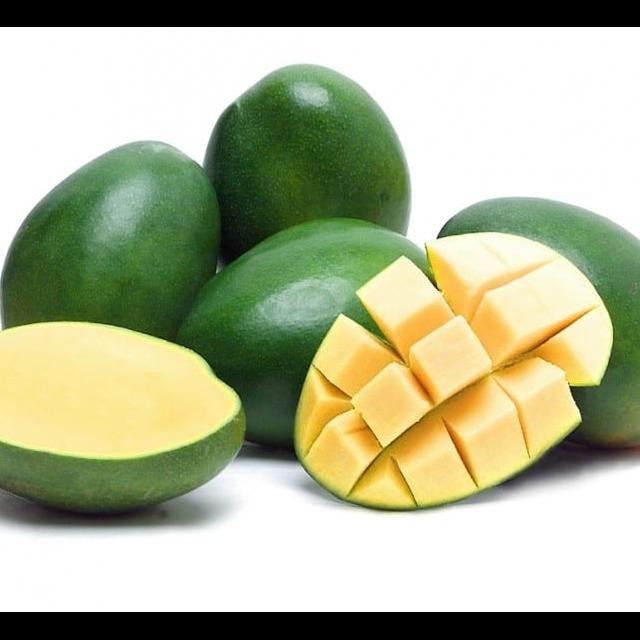mango: (288, 225, 622, 518), (441, 193, 640, 457), (0, 319, 253, 514)
